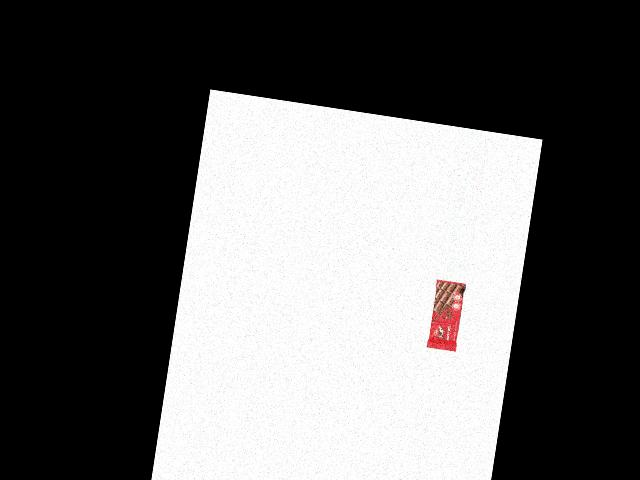chocolate: (426, 279, 466, 353)
